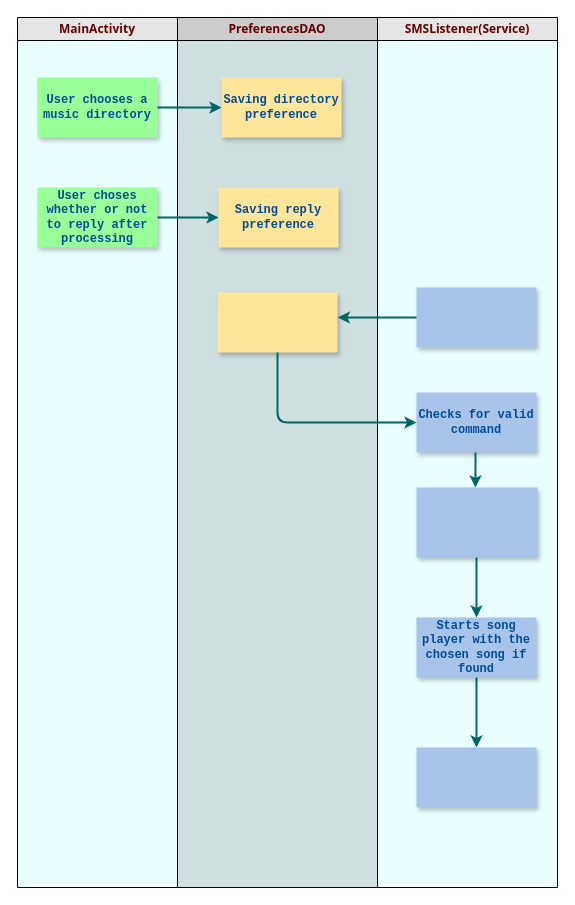
This 575x905 diagram has some shape labels left out. Each missing label, with the centre of its shape:
"Fetch preferences" belongs at point 278,323.
"Reads the given file/ name pattern/ picks a random file" belongs at point 477,523.
"Receives SMS from a sender" belongs at point 477,318.
"Sends reply of hit or miss based on config" belongs at point 477,778.
